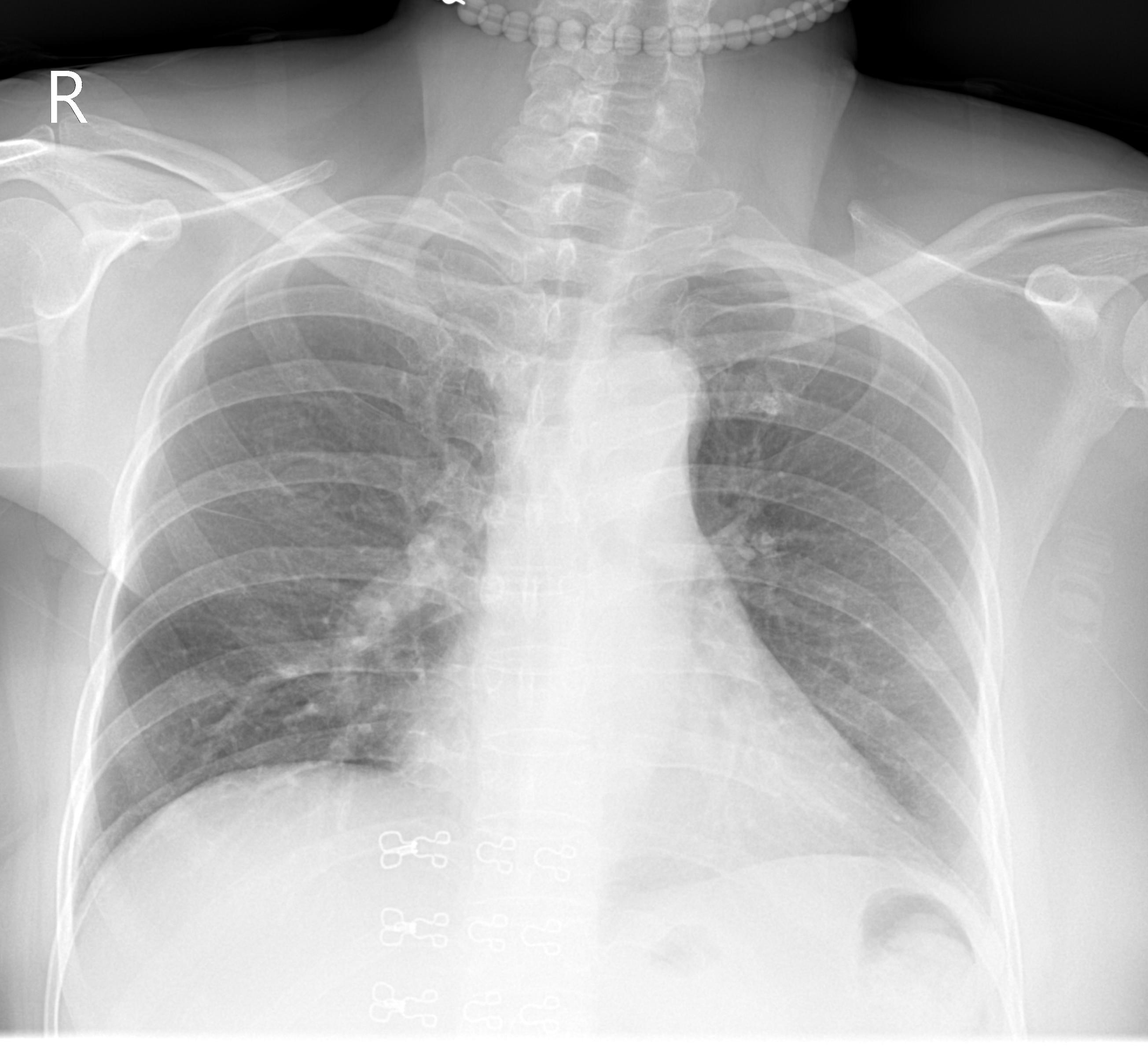Aortic enlargement: (576, 336, 704, 484)
Cardiomegaly: (390, 705, 928, 859)
